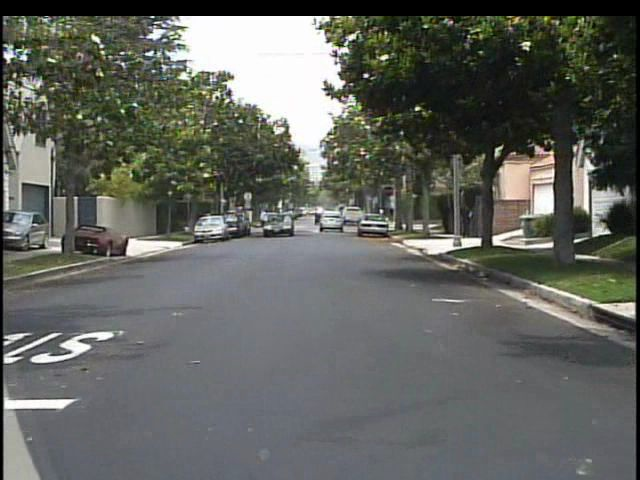person: (461, 197, 478, 241), (201, 206, 216, 233)
